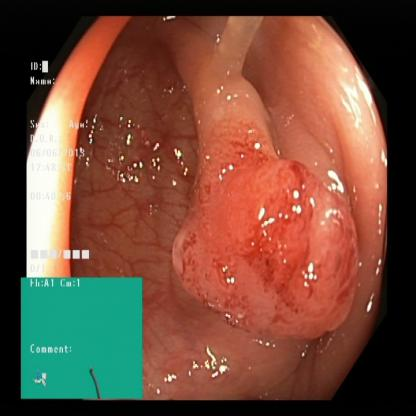Labels: (24, 60, 121, 276), (19, 274, 145, 401)
Polyps: (202, 97, 356, 328)
